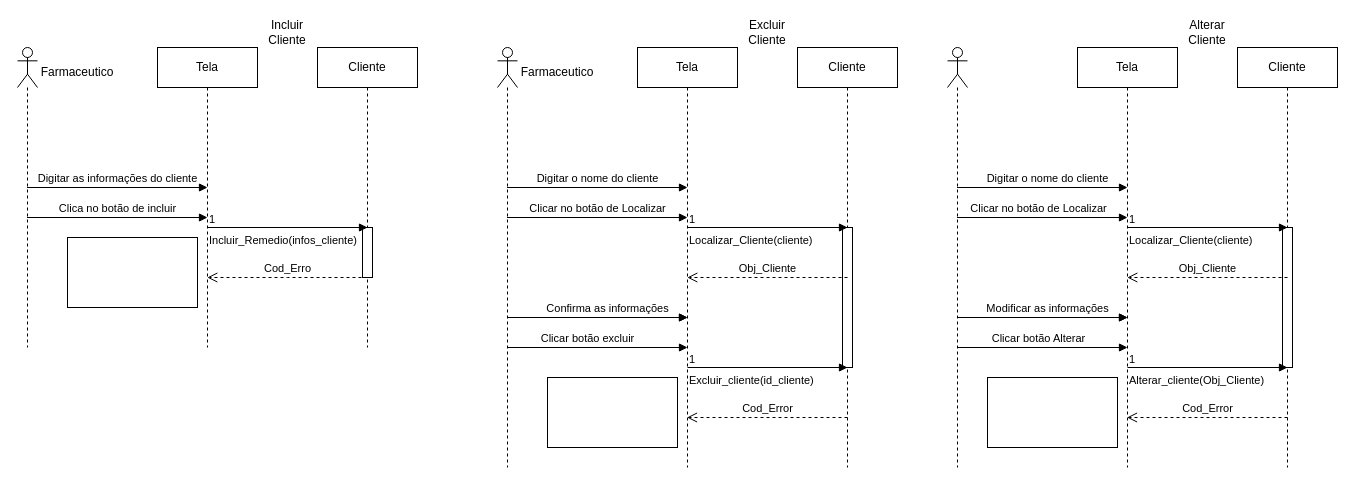
Some shapes in this 1355 by 485 pixel diagram are drawn without their labels. Each missing label, with the box of its shape:
Se cod = 0, cliente cadastrado com sucesso: (66, 236, 198, 308)
Se cod = 0, cliente excluido com sucesso: (546, 376, 678, 448)
Se cod = 0, modificações feitas com sucesso: (986, 376, 1118, 448)
